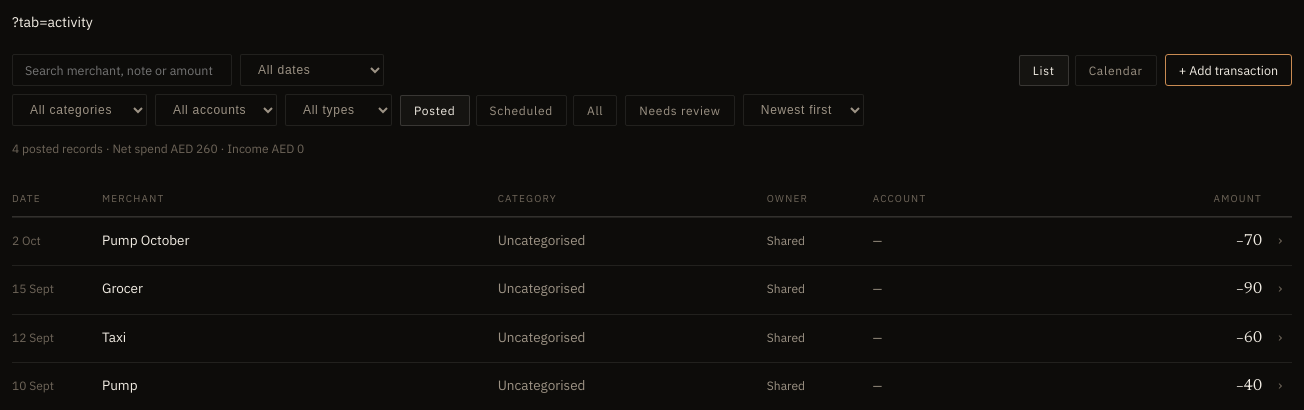
Scenario: Activity filters in the address › writes a changed filter back to the address
The width and height of the screenshot is (1304, 410).
Select "Groceries" in the dropdown named "Category" at (80, 110), box [12,94,147,126]
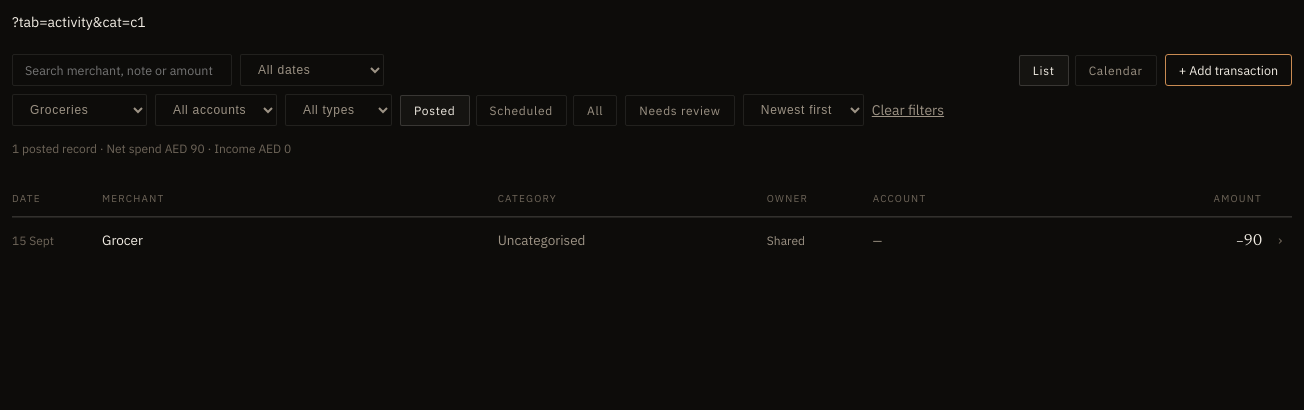
Click the button "Needs review" at (680, 110), box [625,95,735,126]
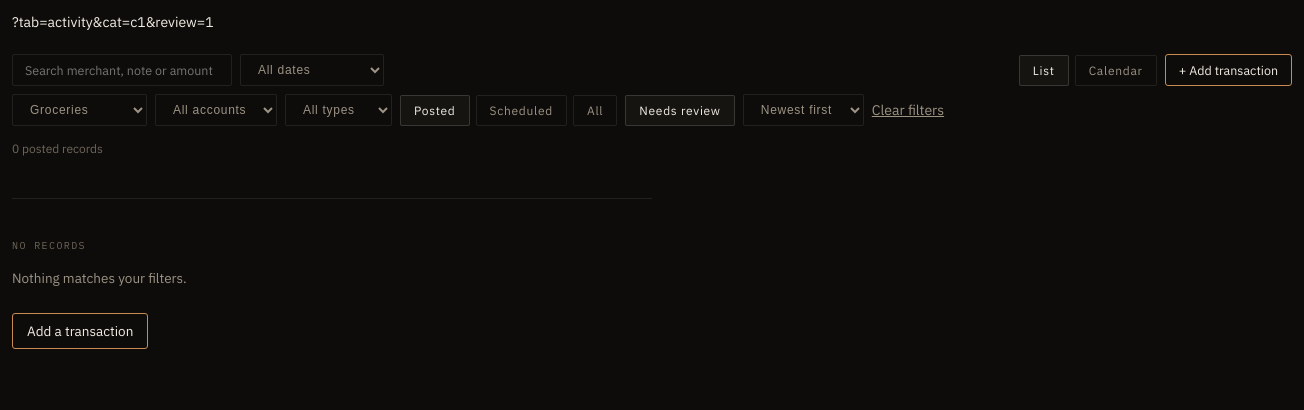
expect the text with test id "location" reads "?tab=activity&cat=c1&review=1": met, box [12,13,214,31]
